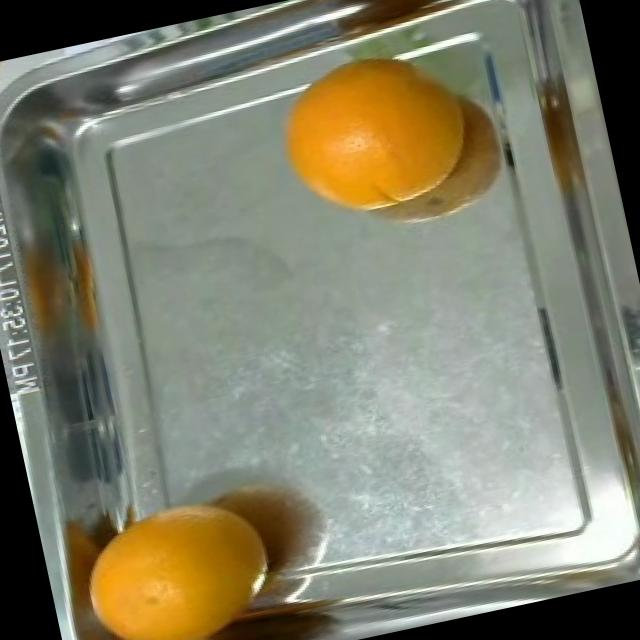Fruit: (48, 464, 300, 640)
